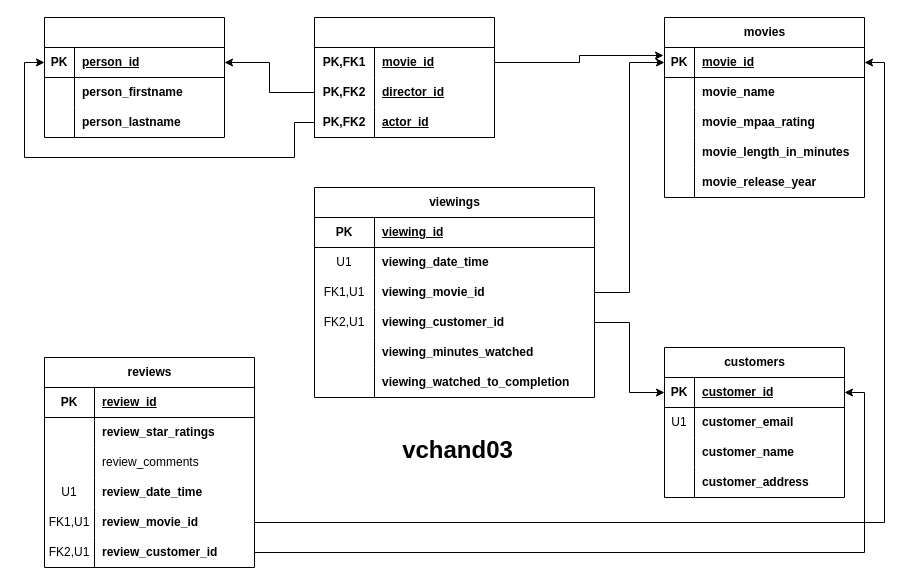
Image size: 910x585. Some labels were removed from this diagram. Each missing label, with the box of its shape:
actors_directors_of_movies: (314, 16, 494, 138)
persons: (44, 16, 224, 138)
